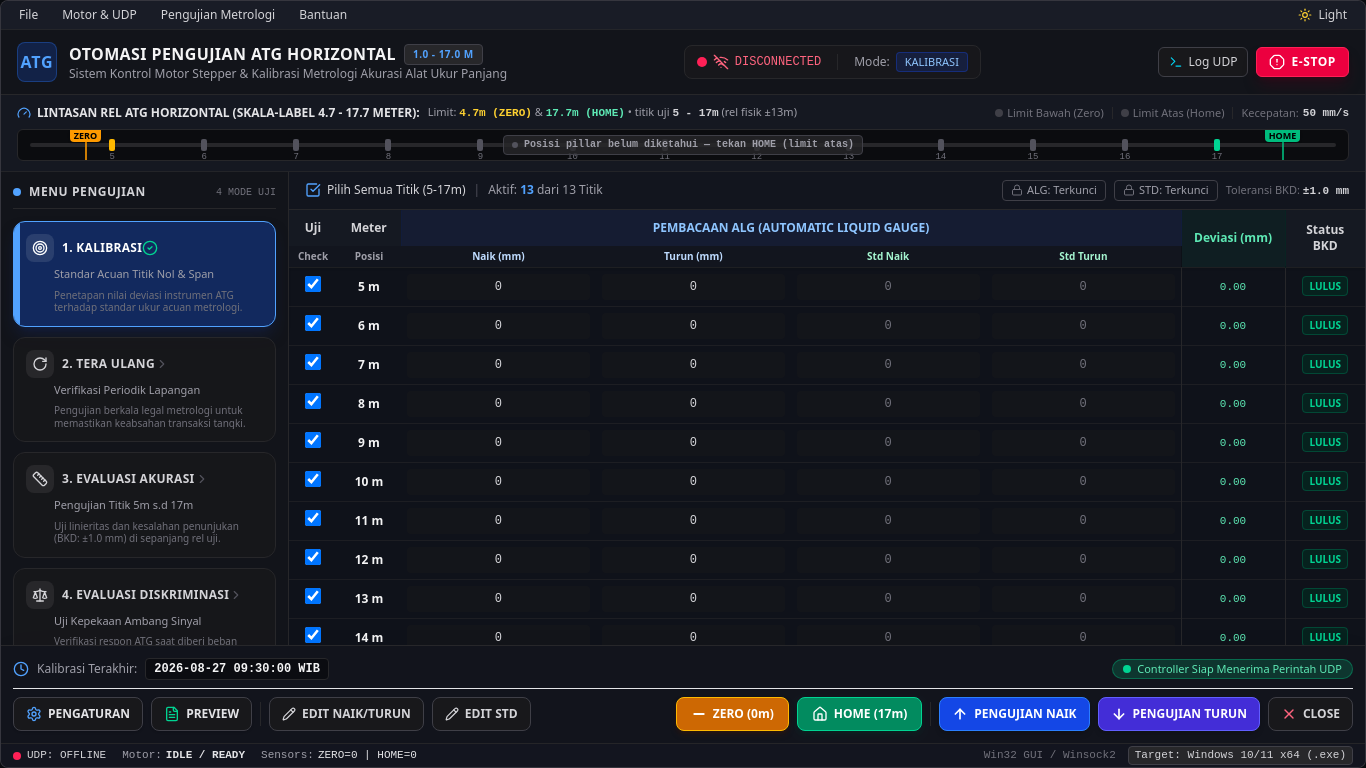
Test case: App — proteksi saat belum terhubung ke hardware › memblokir aksi perintah hardware saat offline dan menampilkan popup peringatan
This screenshot has width=1366, height=768.
# Klik PENGUJIAN NAIK saat belum terhubung → sekuens TIDAK berjalan, muncul popup
Click the button with id "btn-toolbar-uji-naik": x=1014, y=714 [939,697,1090,731]
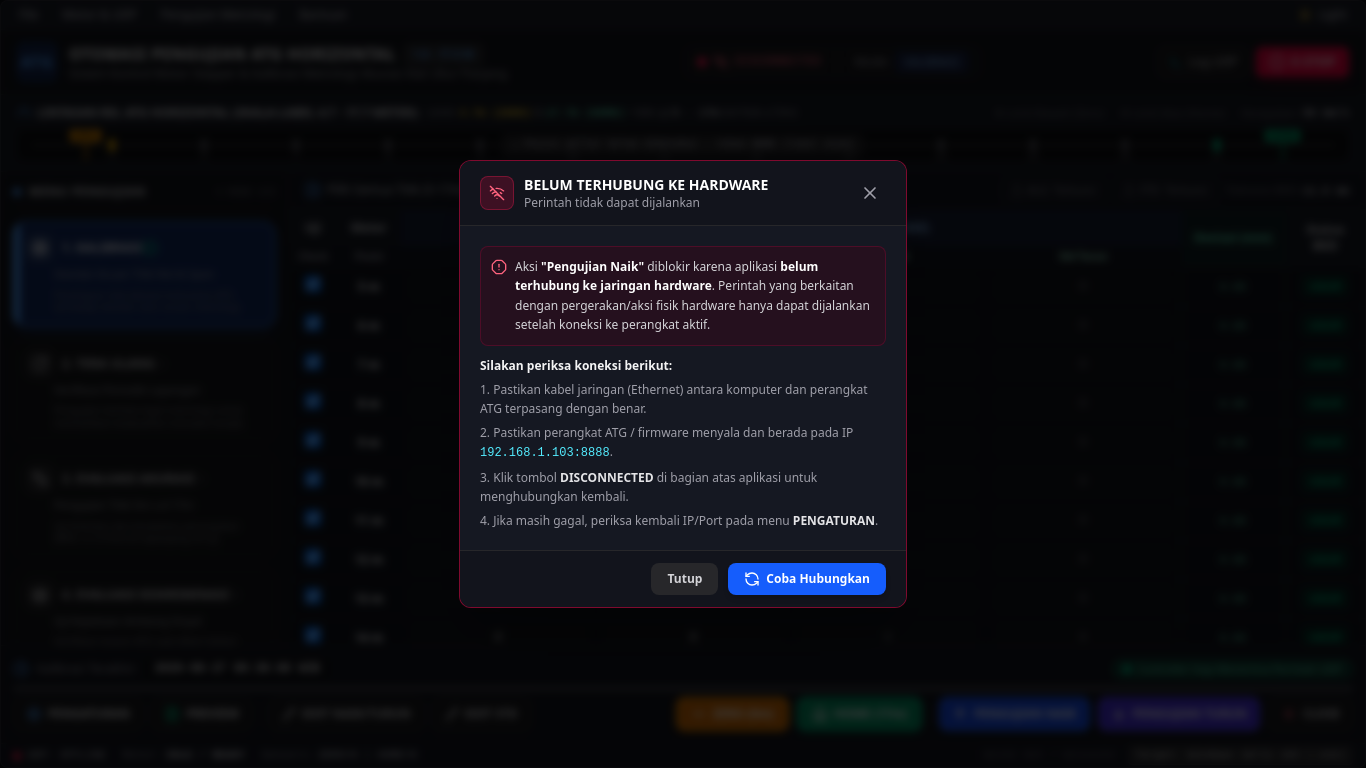
Expected: the heading "BELUM TERHUBUNG KE HARDWARE" is shown, [524,175,768,195]
# Tutup popup
Click the button with id "btn-connection-close": x=685, y=579 [651,563,718,595]
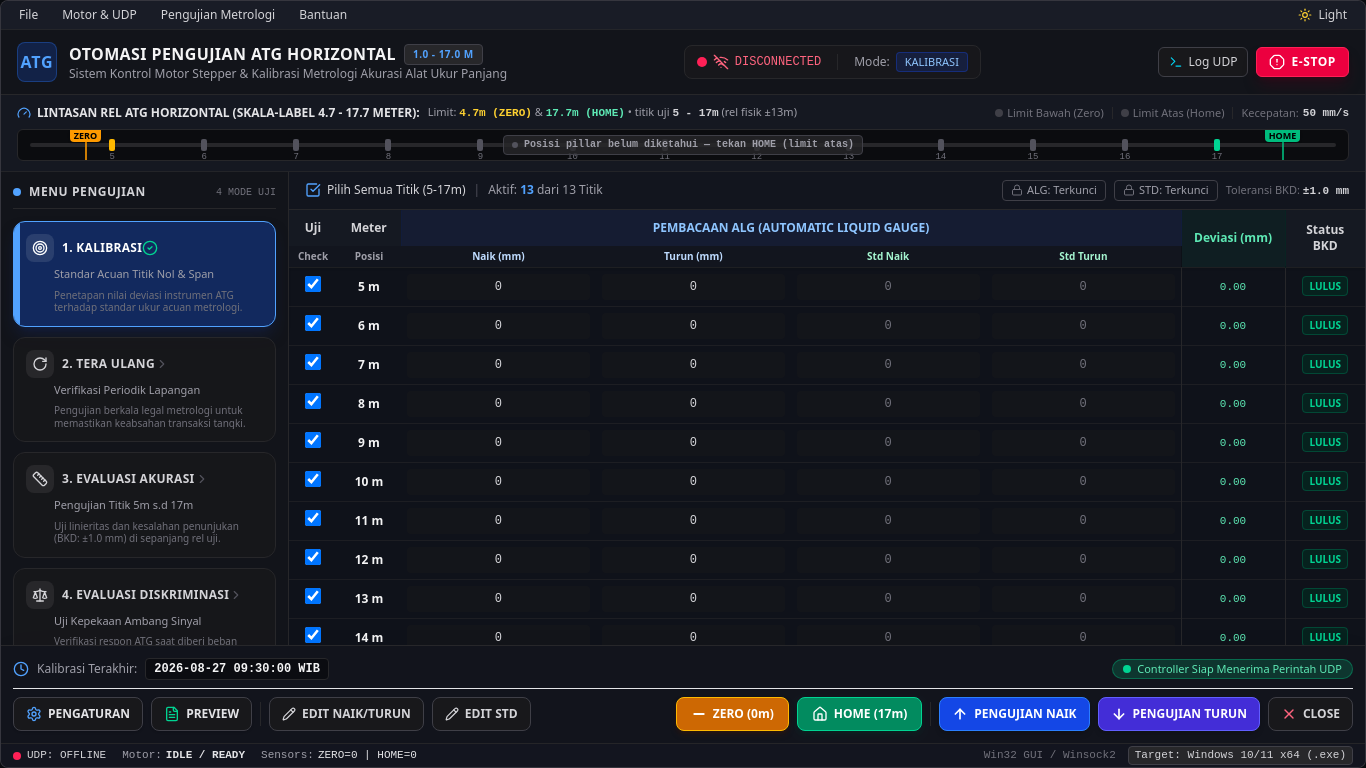
Expected: the heading "BELUM TERHUBUNG KE HARDWARE" is gone
